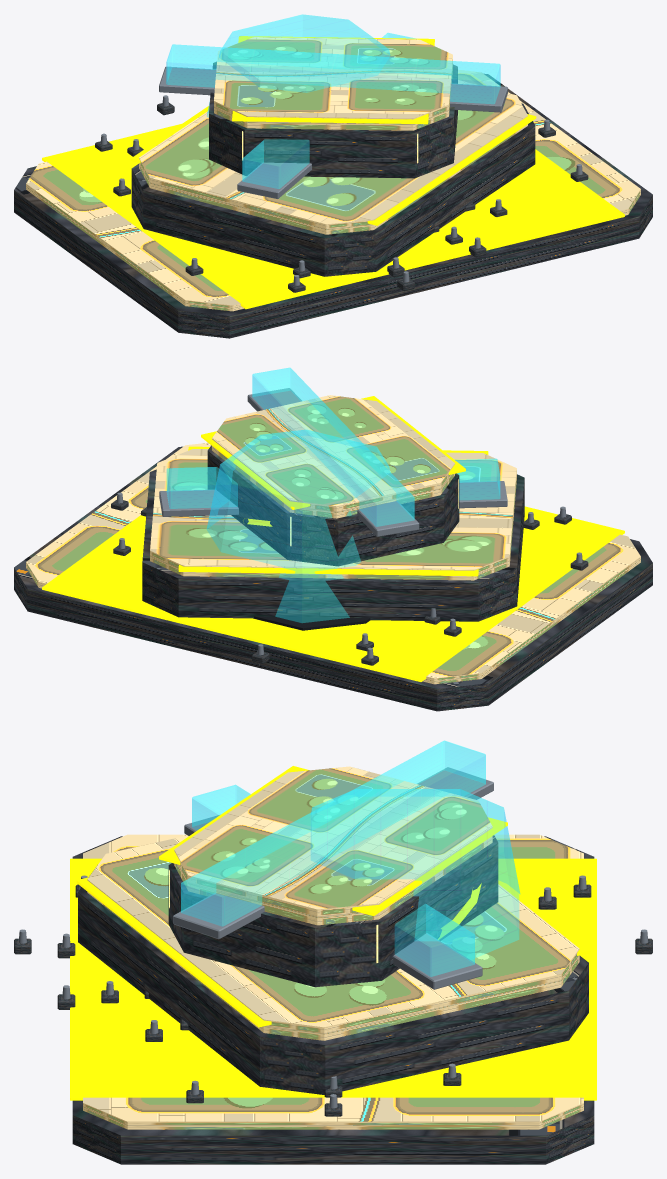
Rendered from interior_setpiece_05_r1_01.glb.
The picture shows the model from 3 angles, top to bottom: view 1: azimuth 30°, elevation 25°; view 2: azimuth 150°, elevation 25°; view 3: azimuth 270°, elevation 25°; orthographic projection. The views are drawn at different scales.
Visible parts, largest first — view 1: Setpiece05_C01_cliff_basalt, Setpiece05_C01_promenade_paving, Setpiece05_C01_led_amber, Setpiece05_C01_glass_cyan, Setpiece05_C01_steel_machined; view 2: Setpiece05_C01_promenade_paving, Setpiece05_C01_cliff_basalt, Setpiece05_C01_glass_cyan, Setpiece05_C01_led_amber, Setpiece05_C01_steel_machined, Setpiece05_C01_gunmetal; view 3: Setpiece05_C01_promenade_paving, Setpiece05_C01_cliff_basalt, Setpiece05_C01_glass_cyan, Setpiece05_C01_led_amber, Setpiece05_C01_steel_machined.
Boxes of the visible parts, <box> form: Setpiece05_C01_cliff_basalt: <box>14,62,652,338</box>; Setpiece05_C01_promenade_paving: <box>26,37,640,311</box>; Setpiece05_C01_led_amber: <box>42,36,624,309</box>; Setpiece05_C01_glass_cyan: <box>166,14,500,188</box>; Setpiece05_C01_steel_machined: <box>100,66,582,285</box>; Setpiece05_C01_promenade_paving: <box>26,395,640,684</box>; Setpiece05_C01_cliff_basalt: <box>14,445,652,711</box>; Setpiece05_C01_glass_cyan: <box>166,367,500,622</box>; Setpiece05_C01_led_amber: <box>42,396,624,681</box>; Setpiece05_C01_steel_machined: <box>116,388,582,658</box>; Setpiece05_C01_gunmetal: <box>253,616,370,630</box>; Setpiece05_C01_promenade_paving: <box>83,766,583,1129</box>; Setpiece05_C01_cliff_basalt: <box>14,835,652,1164</box>; Setpiece05_C01_glass_cyan: <box>181,740,520,976</box>; Setpiece05_C01_led_amber: <box>70,766,596,1100</box>; Setpiece05_C01_steel_machined: <box>18,767,648,1108</box>.
Size of the model in its own units: 38 by 11.68 by 34.29.
10 materials, 10 textured.
